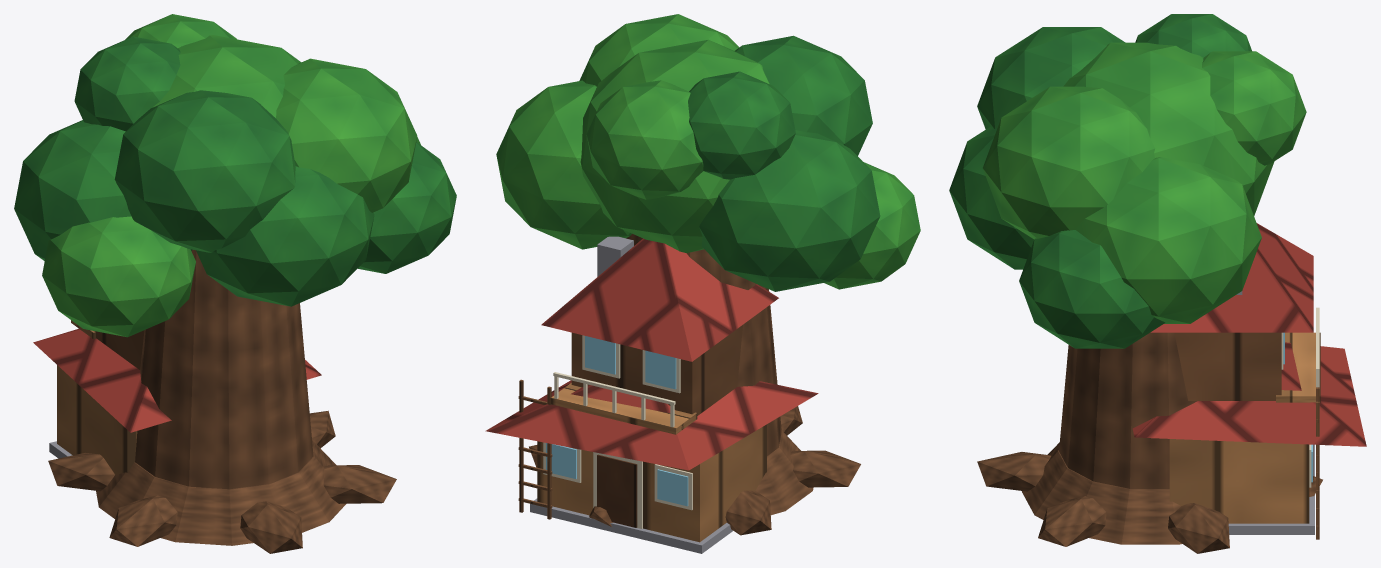
The model's file is casa_arbol.obj.
3 views of the same model, side by side, from view 1: azimuth 30°, elevation 25°; view 2: azimuth 150°, elevation 25°; view 3: azimuth 270°, elevation 25° (orthographic). The views are drawn at different scales.
Visible parts, largest first — view 1: Cone, Icosphere.009, Icosphere.010, Icosphere.011, Icosphere.012, Icosphere.007, Cone.001, Icosphere.015, Icosphere.013, Icosphere.006, Cone.002, Cube (+7 smaller); view 2: Icosphere.007, Cone.003, Cone.002, Icosphere.008, Icosphere.006, Icosphere.014, Cube, Icosphere.015, Icosphere.009, Cube.002, Icosphere.012, Icosphere.010 (+15 smaller); view 3: Icosphere.008, Icosphere.010, Cone, Icosphere.006, Icosphere.013, Cone.002, Cube, Icosphere.014, Cone.003, Icosphere.009, Cube.002, Cone.001 (+7 smaller).
Boxes of the visible parts, left/top/right/bottom form: Cone: left=135, top=250, right=313, bottom=489; Icosphere.009: left=114, top=90, right=295, bottom=252; Icosphere.010: left=276, top=58, right=417, bottom=212; Icosphere.011: left=196, top=166, right=374, bottom=306; Icosphere.012: left=42, top=216, right=195, bottom=337; Icosphere.007: left=14, top=120, right=192, bottom=260; Cone.001: left=96, top=440, right=346, bottom=545; Icosphere.015: left=74, top=36, right=180, bottom=131; Icosphere.013: left=358, top=142, right=456, bottom=273; Icosphere.006: left=153, top=35, right=301, bottom=117; Cone.002: left=33, top=328, right=321, bottom=432; Cube: left=57, top=365, right=137, bottom=474; Icosphere.007: left=699, top=130, right=880, bottom=291; Cone.003: left=541, top=238, right=778, bottom=361; Cone.002: left=485, top=380, right=818, bottom=470; Icosphere.008: left=496, top=80, right=631, bottom=249; Icosphere.006: left=580, top=39, right=769, bottom=252; Icosphere.014: left=586, top=80, right=703, bottom=199; Cube: left=537, top=424, right=766, bottom=542; Icosphere.015: left=688, top=71, right=795, bottom=179; Icosphere.009: left=735, top=35, right=872, bottom=155; Cube.002: left=571, top=325, right=742, bottom=415; Icosphere.012: left=824, top=162, right=920, bottom=289; Icosphere.010: left=579, top=14, right=738, bottom=86; Icosphere.008: left=1075, top=157, right=1261, bottom=323; Icosphere.010: left=982, top=86, right=1155, bottom=239; Cone: left=1059, top=332, right=1197, bottom=488; Icosphere.006: left=1063, top=42, right=1274, bottom=215; Icosphere.013: left=1019, top=230, right=1165, bottom=348; Cone.002: left=1132, top=342, right=1366, bottom=446; Cube: left=1169, top=439, right=1309, bottom=523; Icosphere.014: left=1202, top=51, right=1306, bottom=165; Cone.003: left=1150, top=223, right=1313, bottom=332; Icosphere.009: left=977, top=27, right=1125, bottom=129; Cube.002: left=1174, top=332, right=1281, bottom=400; Cone.001: left=1022, top=442, right=1181, bottom=544.
Bounding box in the file's own units: 16.12 × 17.79 × 14.95.
